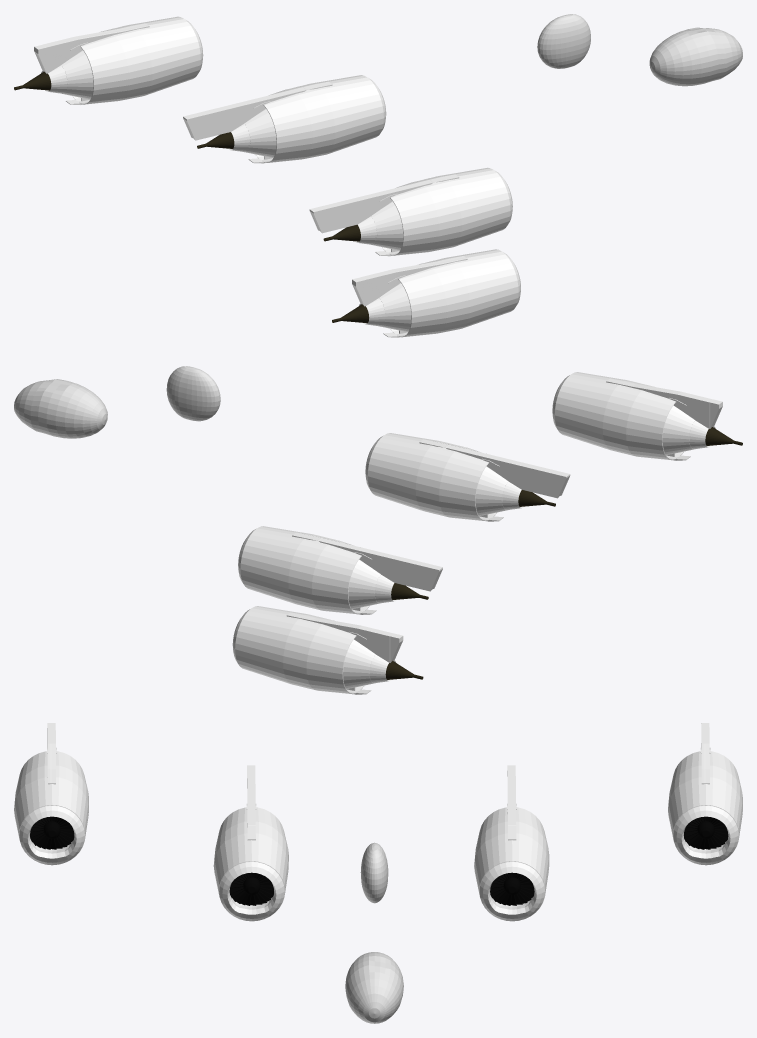
3 views of the same model, one above another, from view 1: azimuth 30°, elevation 25°; view 2: azimuth 150°, elevation 25°; view 3: azimuth 270°, elevation 25° (orthographic). The views are drawn at different scales.
Visible parts, largest first — view 1: 立方体, 立方体.001, 立方体.002, 立方体.003, 球, 球.001, 円柱.008, 円柱.011, 円柱.004, 円柱.002; view 2: 立方体.001, 立方体, 立方体.002, 立方体.003, 球, 球.001, 円柱.011, 円柱.008, 円柱.004, 円柱.002; view 3: 立方体, 立方体.001, 立方体.002, 立方体.003, 球, 円柱.001, 円柱.010, 円柱.003, 円柱.006, 球.001, 円柱.012, 円柱.007 (+2 smaller).
Boxes of the visible parts, <box> form: 立方体: <box>183,75,383,163</box>; 立方体.001: <box>309,167,509,256</box>; 立方体.002: <box>34,16,200,104</box>; 立方体.003: <box>352,249,518,337</box>; 球: <box>649,27,742,86</box>; 球.001: <box>537,14,590,68</box>; 円柱.008: <box>14,50,93,99</box>; 円柱.011: <box>332,283,411,332</box>; 円柱.004: <box>197,109,276,157</box>; 円柱.002: <box>323,201,403,250</box>; 立方体.001: <box>368,433,570,521</box>; 立方体: <box>240,526,442,614</box>; 立方体.002: <box>235,606,403,694</box>; 立方体.003: <box>555,372,722,460</box>; 球: <box>14,379,107,438</box>; 球.001: <box>166,366,220,421</box>; 円柱.011: <box>662,405,742,455</box>; 円柱.008: <box>343,639,423,689</box>; 円柱.004: <box>348,559,428,609</box>; 円柱.002: <box>475,466,555,515</box>; 立方体: <box>474,765,549,909</box>; 立方体.001: <box>213,765,288,910</box>; 立方体.002: <box>668,723,742,854</box>; 立方体.003: <box>14,723,88,856</box>; 球: <box>345,952,403,1023</box>; 円柱.001: <box>219,861,284,921</box>; 円柱.010: <box>19,805,84,865</box>; 円柱.003: <box>479,861,544,921</box>; 円柱.006: <box>673,805,738,865</box>; 球.001: <box>360,842,388,903</box>; 円柱.012: <box>30,816,74,849</box>; 円柱.007: <box>490,872,534,905</box>.
Bounding box in the file's own units: 22.87 × 5.44 × 24.84.
